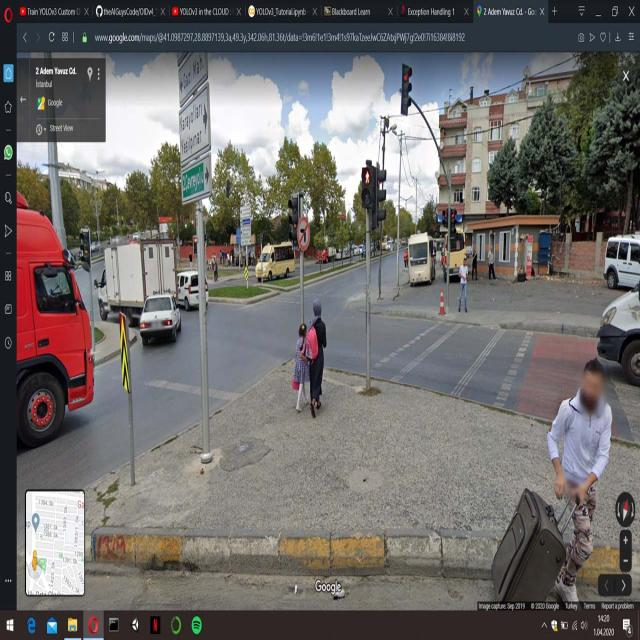soladonulmez: (296, 217, 310, 249)
